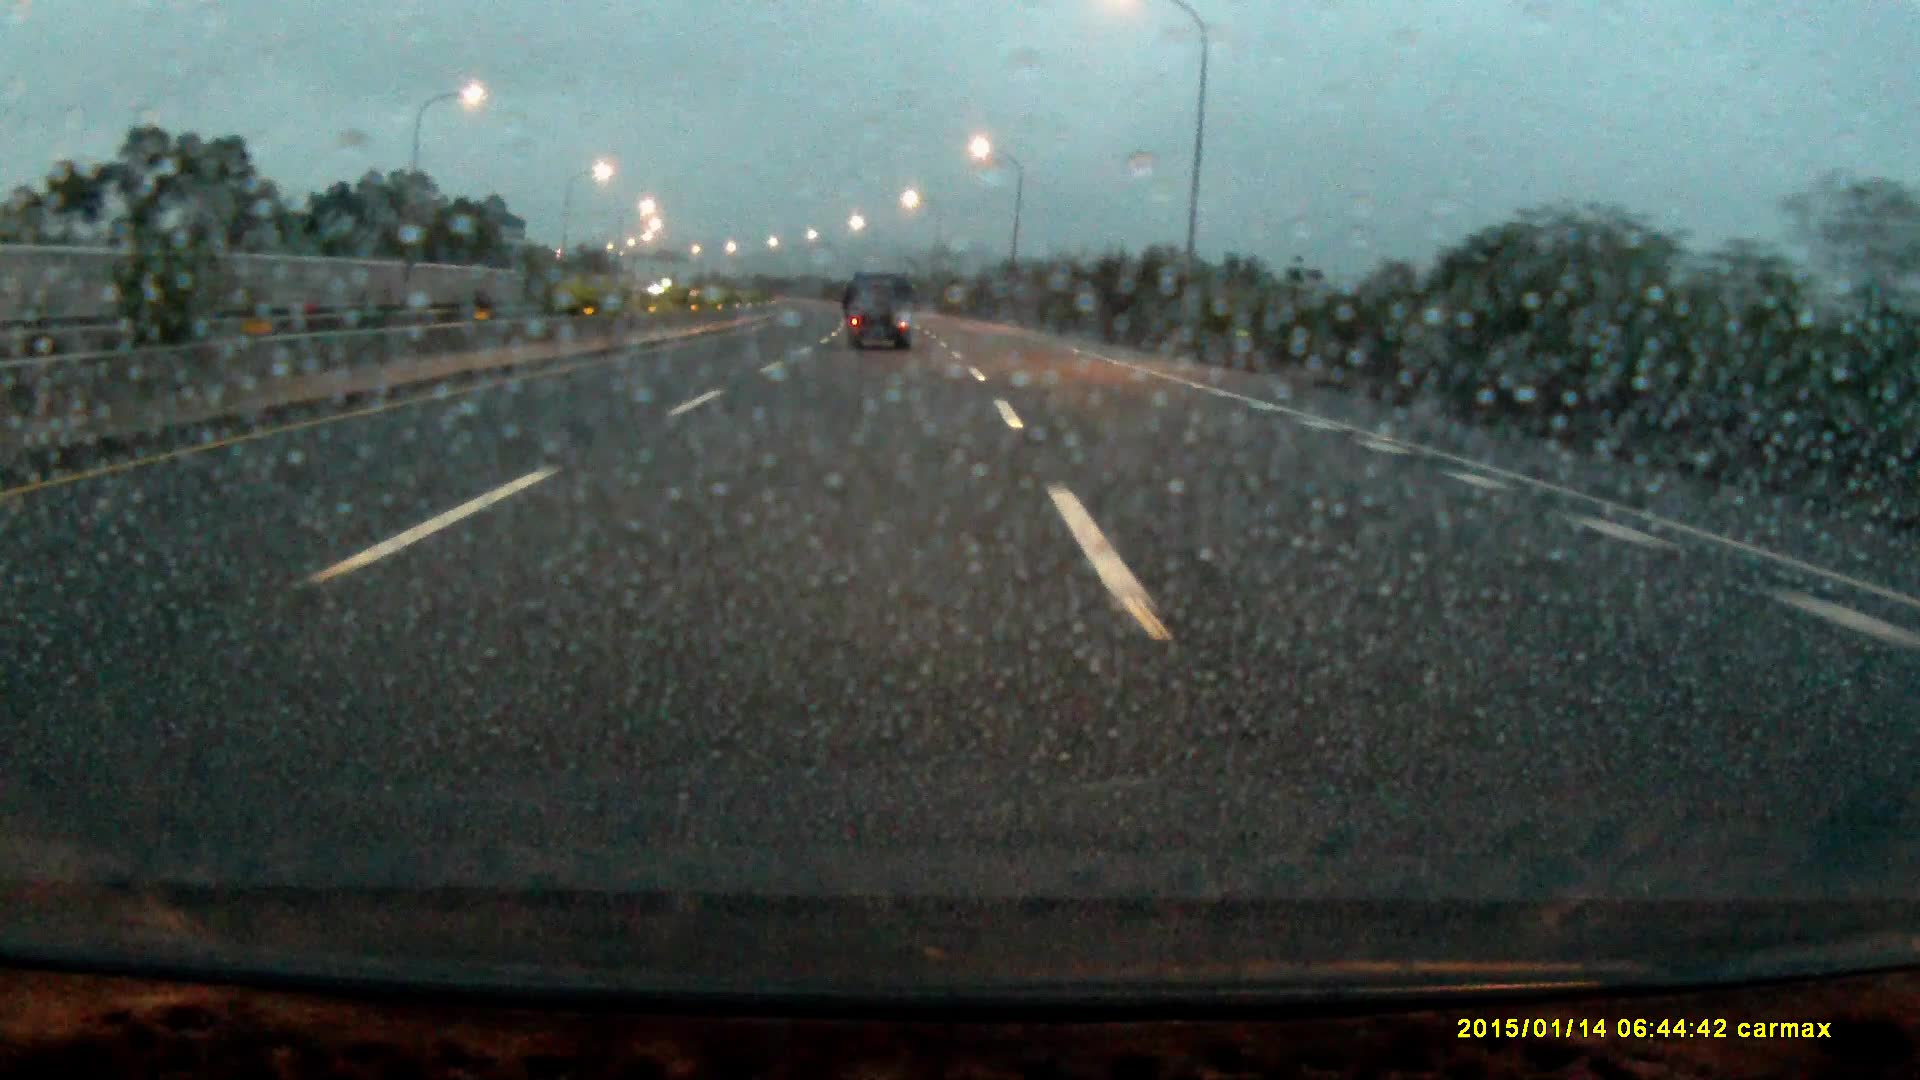vehicle: (847, 272, 913, 356)
